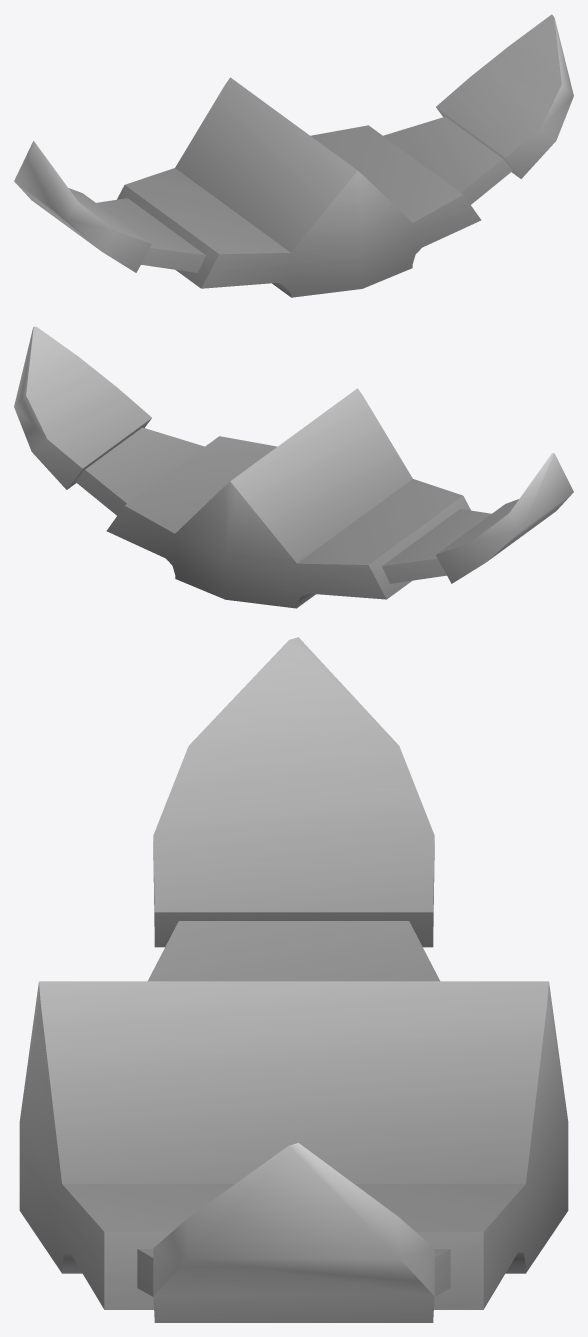
File: stone_guard_048.glb
3 views of the same model, one above another, from view 1: azimuth 30°, elevation 25°; view 2: azimuth 150°, elevation 25°; view 3: azimuth 270°, elevation 25° (orthographic). The views are drawn at different scales.
Parts seen in each view (by area): view 1: stone_guard.048; view 2: stone_guard.048; view 3: stone_guard.048.
Part boxes in pixels (bbox=[...]): stone_guard.048: bbox=[14, 14, 573, 297]; stone_guard.048: bbox=[14, 326, 573, 608]; stone_guard.048: bbox=[19, 637, 568, 1322].
Size of the model in its own units: 5.66 by 1.69 by 2.59.
Materials: 1 (1 with a texture image).
